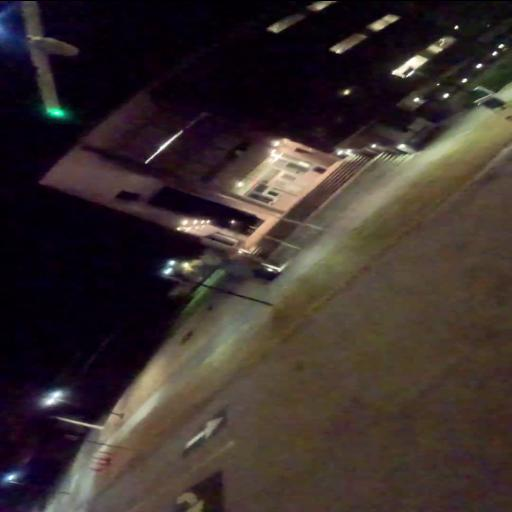uav: (0, 4, 89, 120)
